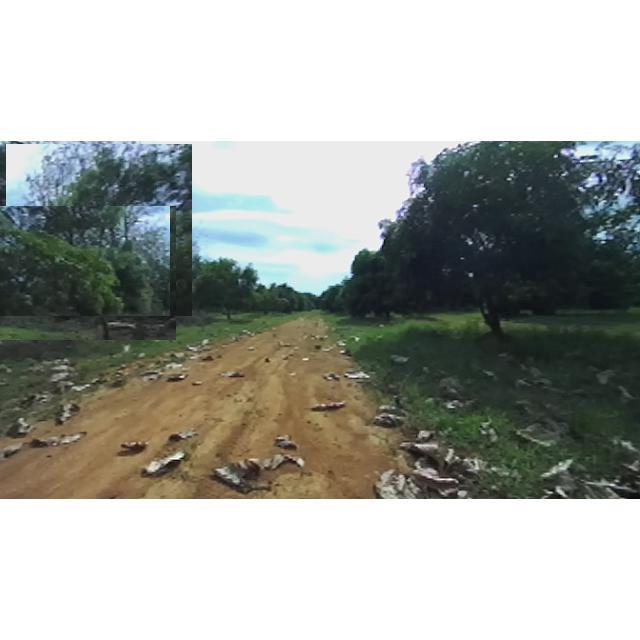direk: (380, 143, 640, 330), (6, 144, 192, 316), (0, 206, 176, 340), (344, 236, 444, 324), (188, 254, 266, 324), (248, 282, 296, 316)
